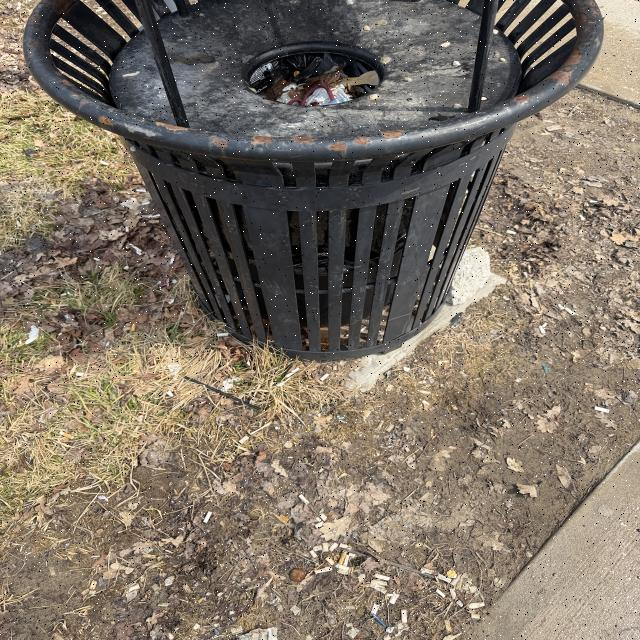Dustbin: (20, 0, 605, 358)
